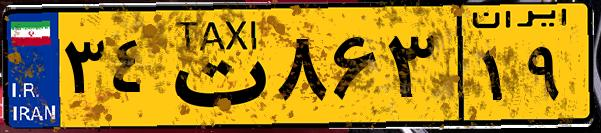1: (475, 38, 525, 113)
3: (385, 28, 445, 110), (57, 26, 110, 100)
4: (110, 28, 158, 98)
6: (330, 28, 385, 110)
8: (270, 28, 330, 110)
9: (525, 38, 570, 115)
ت: (158, 12, 270, 120)
